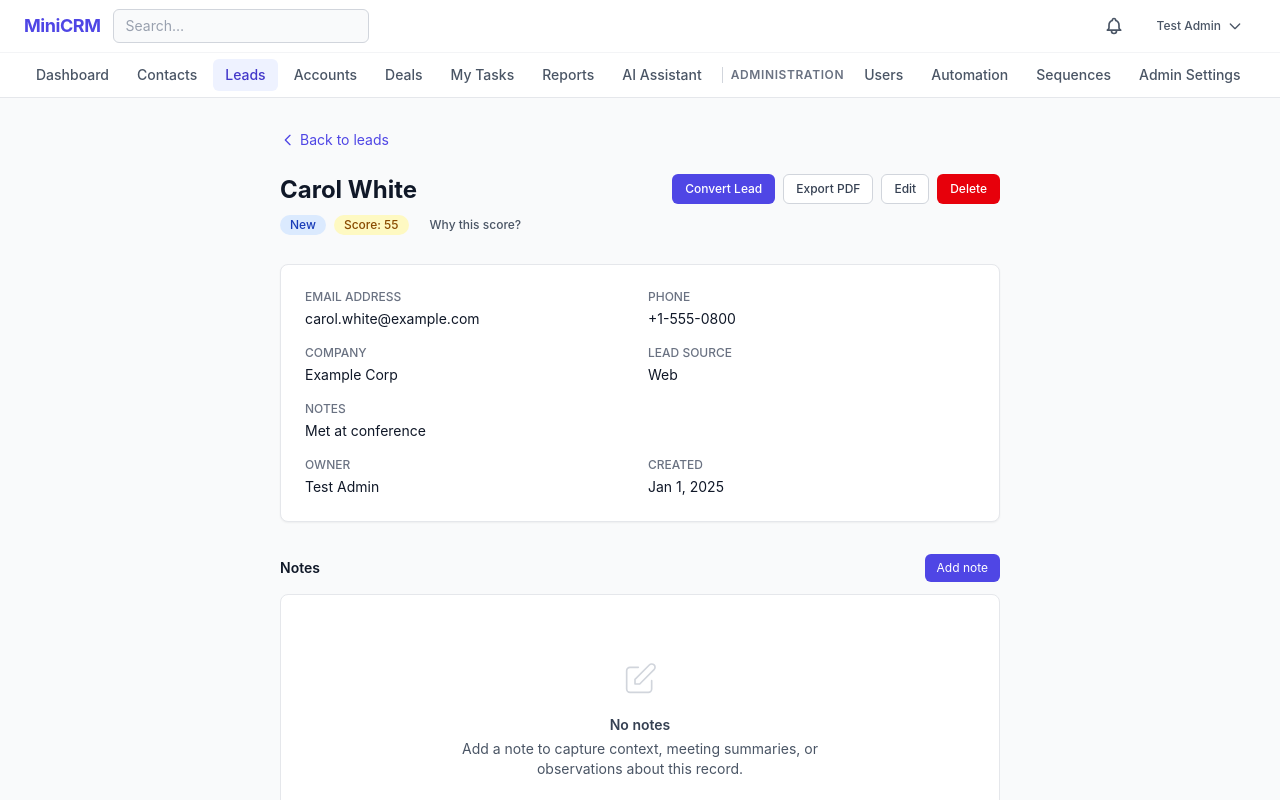
LeadDetailPage › shows the conversion modal when Convert Lead is clicked
The image size is (1280, 800).
What coordinates should you click on to do the following:
click the button with test id "convert-lead-button"
I would click on:
 (724, 189)
Its box is [672, 174, 775, 204].
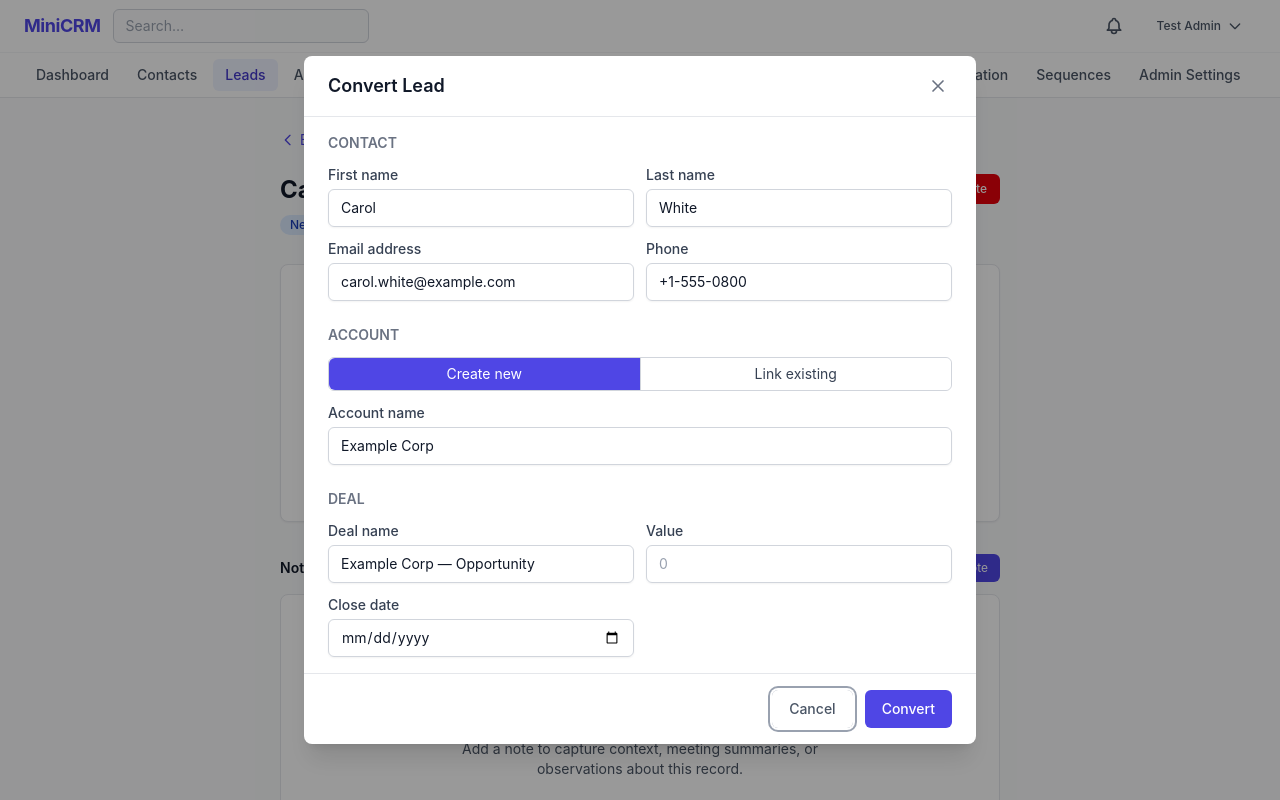
Result: the button with test id "convert-confirm" is shown at [865, 690, 952, 728]
